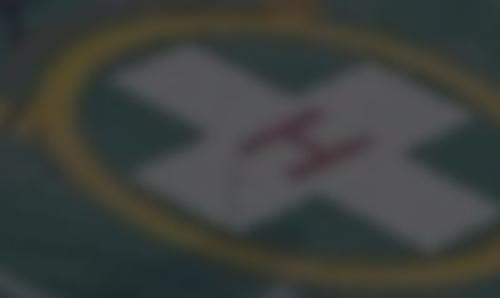Apron: (40, 10, 500, 298)
